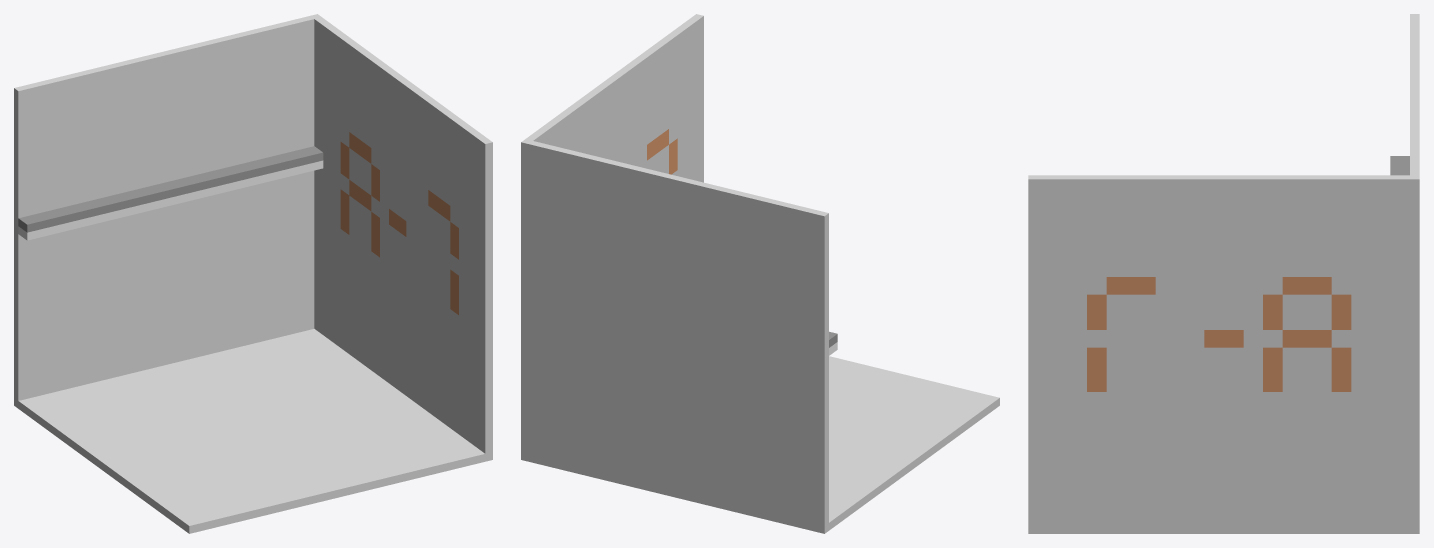
File: Wall_Corner(Ver_1_Number 7).obj
3 renders of one model, left to right at view 1: azimuth 30°, elevation 25°; view 2: azimuth 150°, elevation 25°; view 3: azimuth 270°, elevation 25°, orthographic. The views are drawn at different scales.
Bounding box in the file's own units: 4 × 4 × 4.
Materials: 1 (1 with a texture image).
